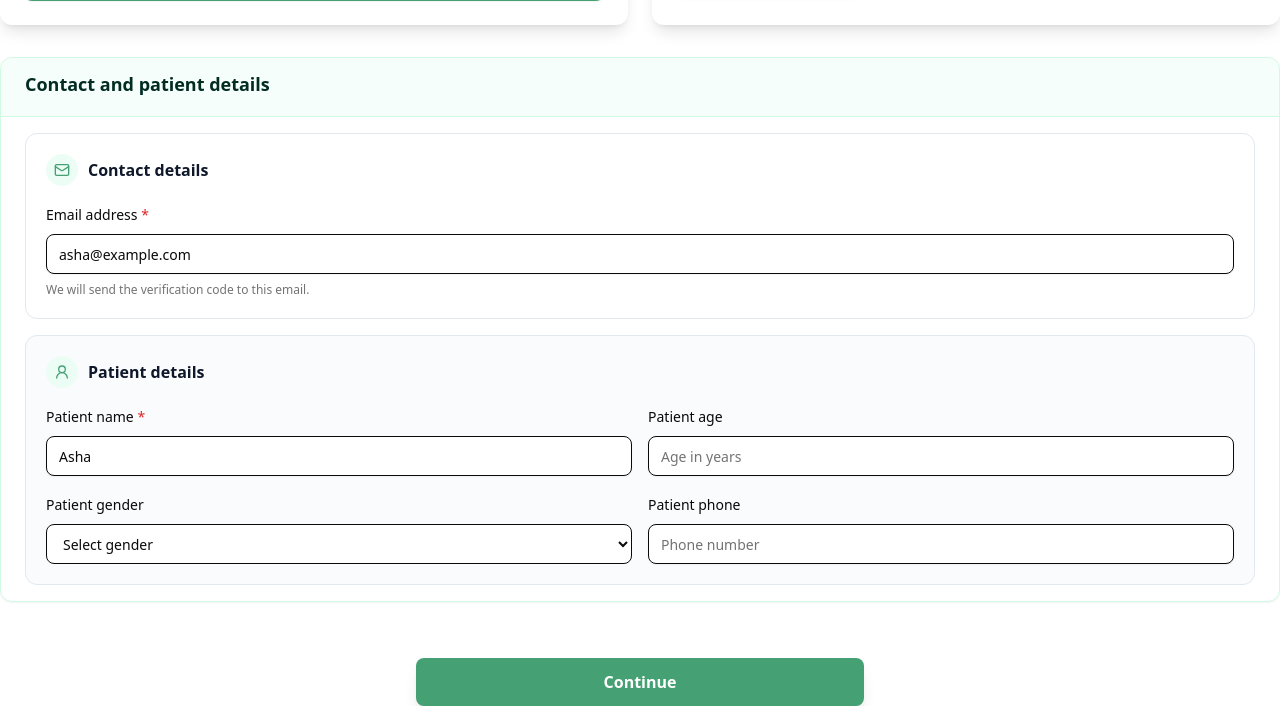
Scenario: Booking form › stays on the booking form when the OTP request fails
(page scrolled)
Click the button "Continue": (640, 682) [416,658,864,705]
(page scrolled)
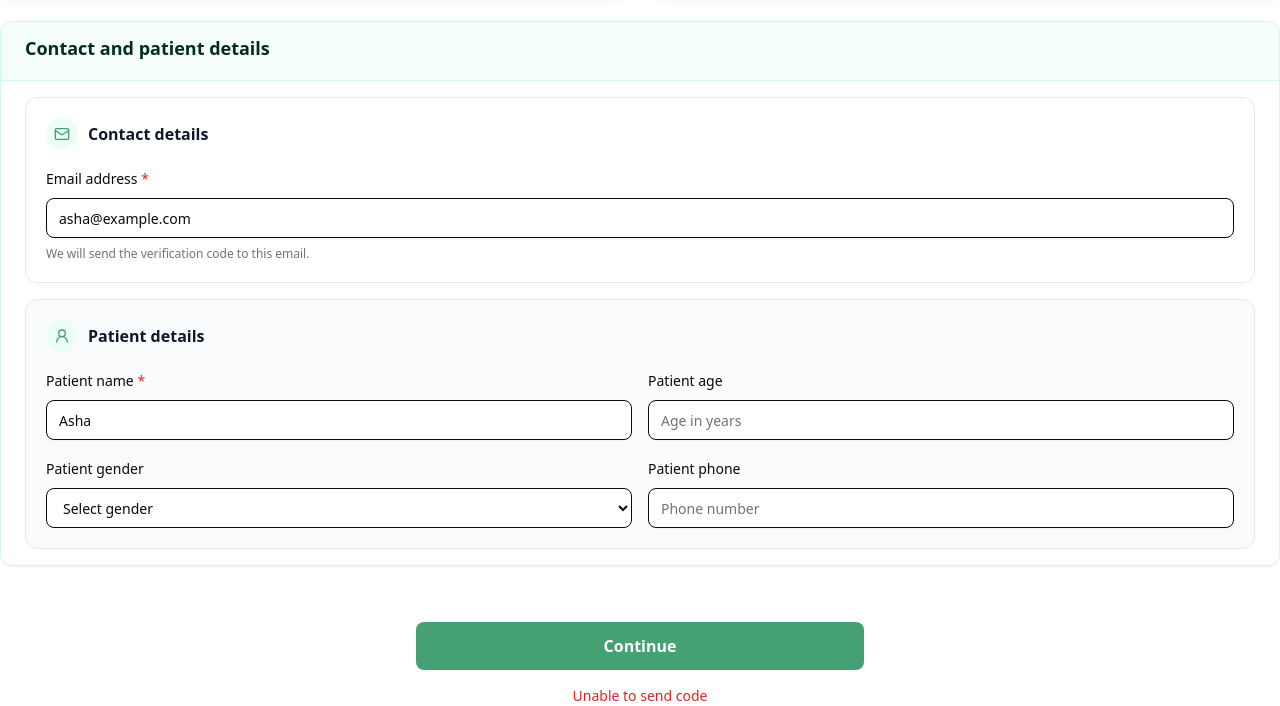
Expected: the text "Unable to send code" is shown, [573,686,708,705]
